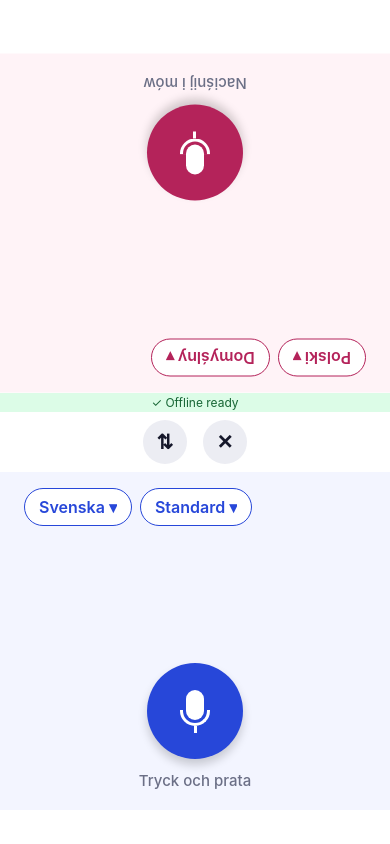
Scenario: FaceToFaceScreen › swap exchanges the language labels and remembers the pair
Expected: the element with test id "lang-bottom" shows "Svenska", 39,496 -> 105,516
Click the element with test id "swap": {"x": 165, "y": 442} 143,420 -> 187,464
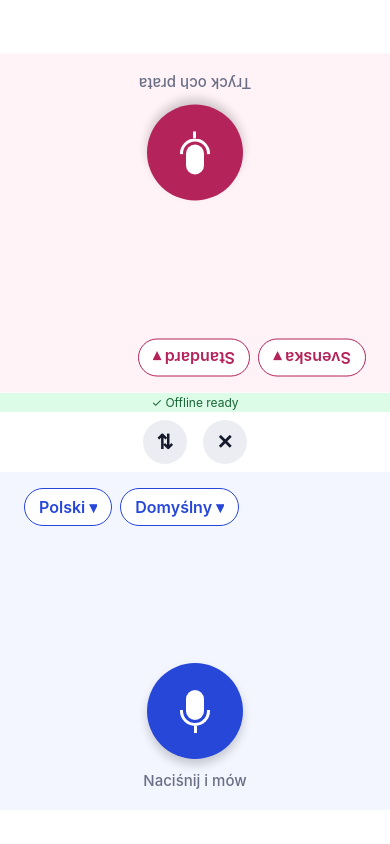
Now the element with test id "lang-top" shows "Svenska", box 285,348 -> 351,368
Now the element with test id "lang-bottom" shows "Polski", box 39,496 -> 85,516
